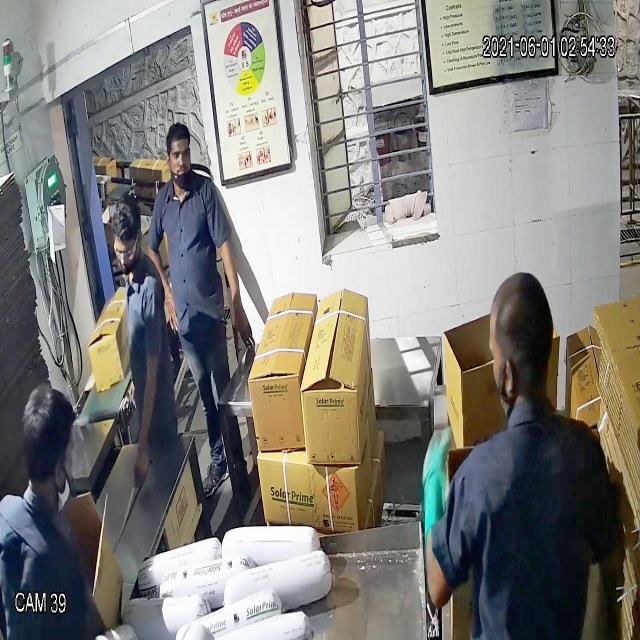Gafas: (109, 222, 144, 269)
